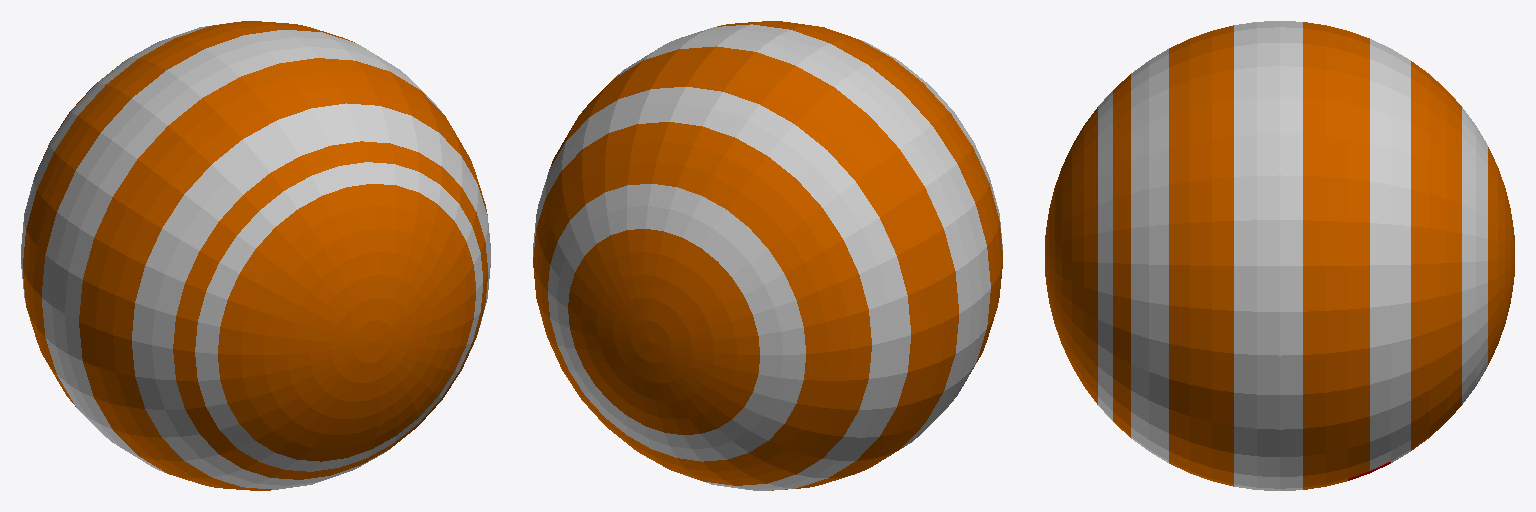
File: jupiter.obj
3 views of the same model, side by side, from view 1: azimuth 30°, elevation 25°; view 2: azimuth 150°, elevation 25°; view 3: azimuth 270°, elevation 25° (orthographic).
Size of the model in its own units: 4.09 by 4.09 by 4.09.